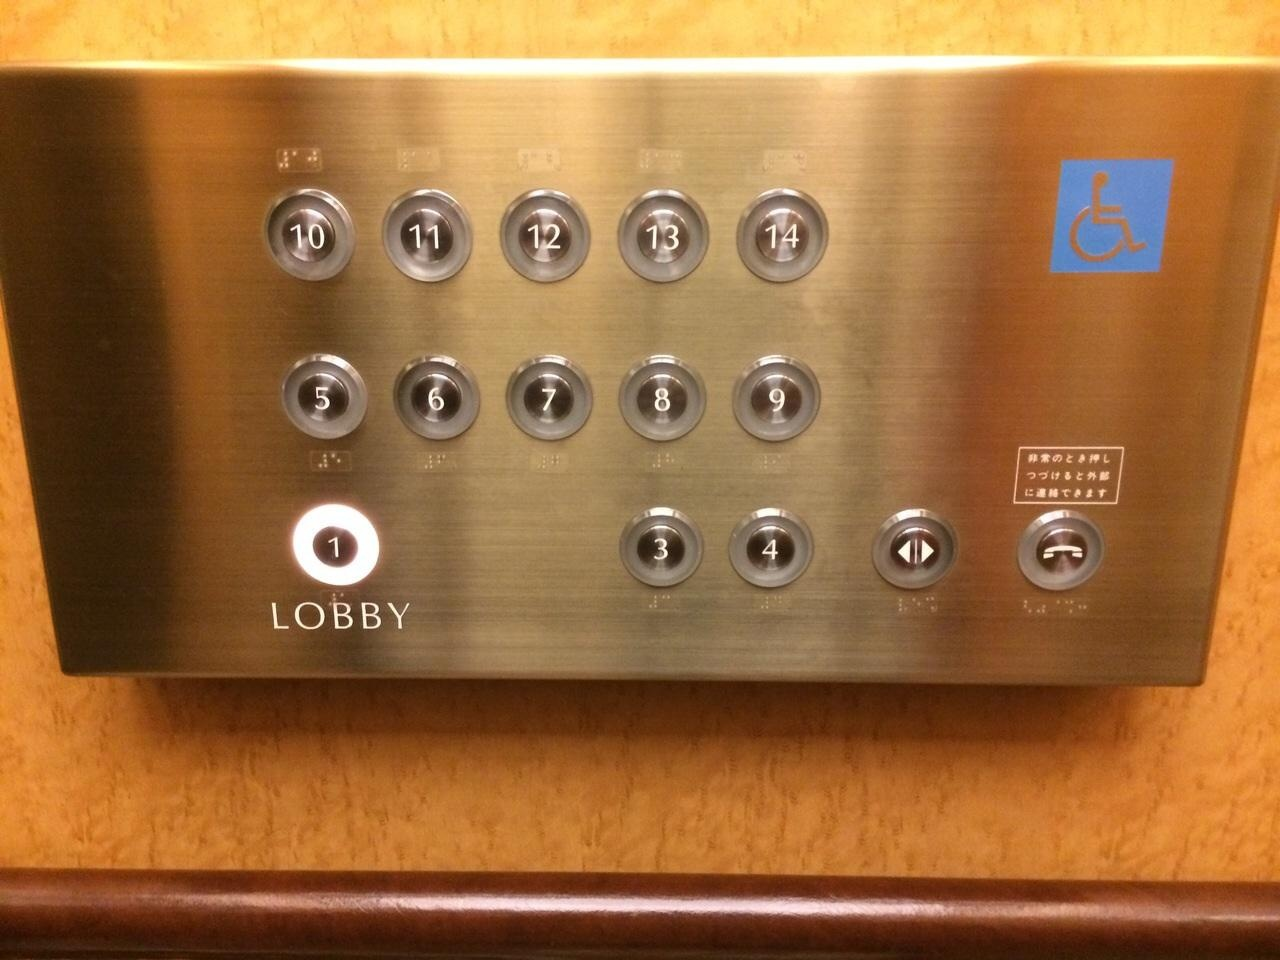1: (292, 499, 384, 587)
10: (259, 184, 355, 289)
11: (382, 187, 480, 287)
12: (498, 184, 596, 287)
13: (618, 191, 716, 289)
14: (734, 188, 828, 284)
3: (620, 507, 708, 593)
4: (727, 505, 810, 589)
5: (278, 350, 371, 446)
6: (392, 356, 486, 440)
7: (506, 348, 592, 442)
8: (616, 354, 708, 444)
9: (727, 352, 822, 446)
CH: (1049, 152, 1178, 278)
call: (1012, 509, 1108, 597)
open: (871, 507, 957, 593)
